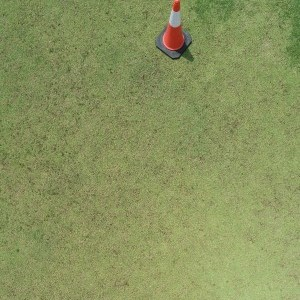traffic cone: (154, 1, 193, 60)
